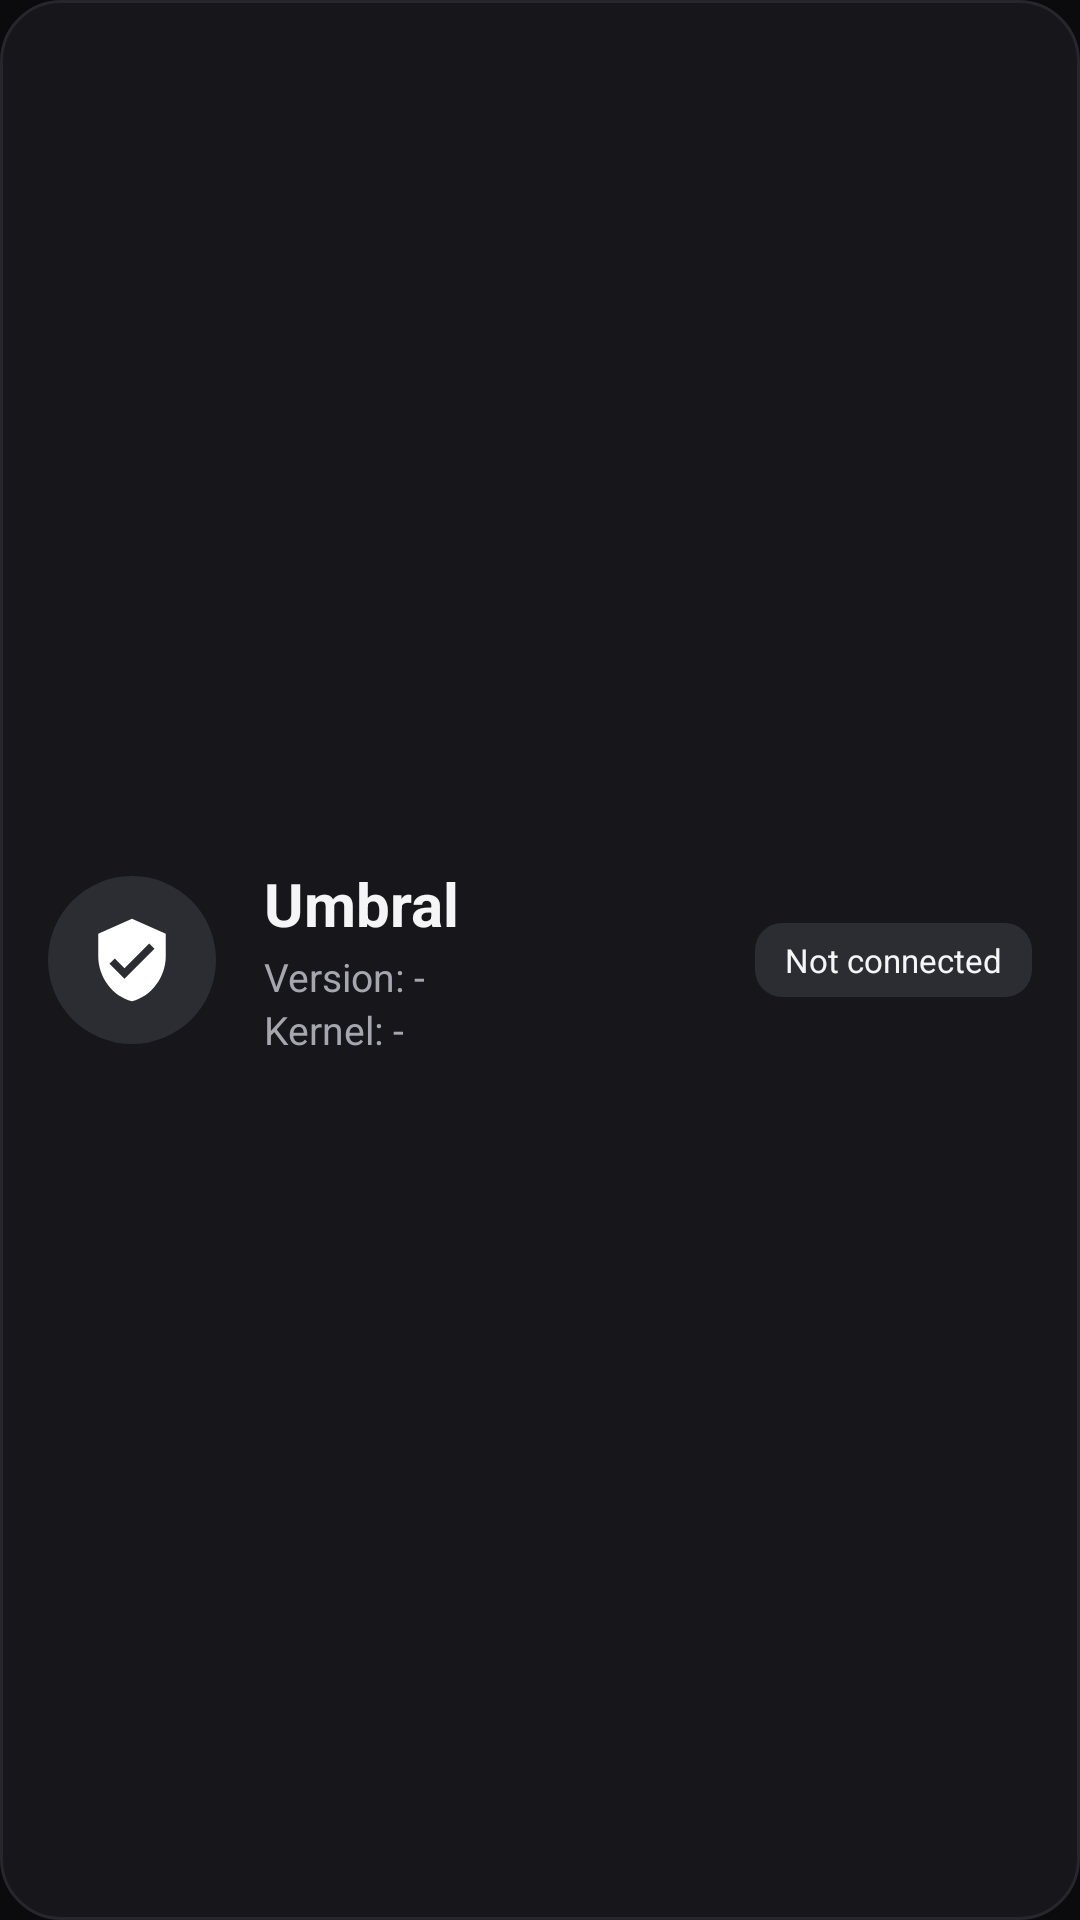

Icons on this 1080w x 1920h Android screen, each with the point to tap as (x,y):
superuser: (132,960)
